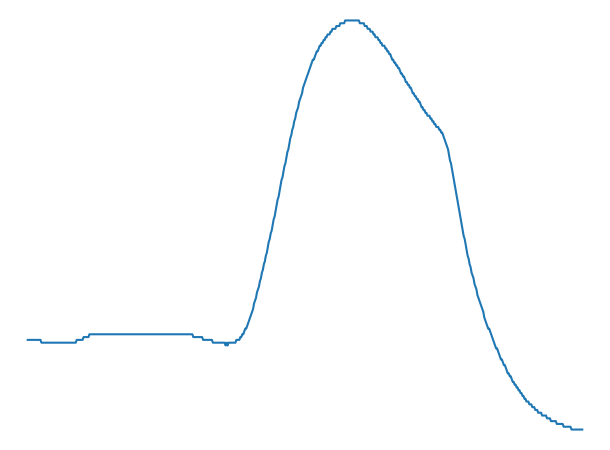increase: (216, 323, 255, 350)
